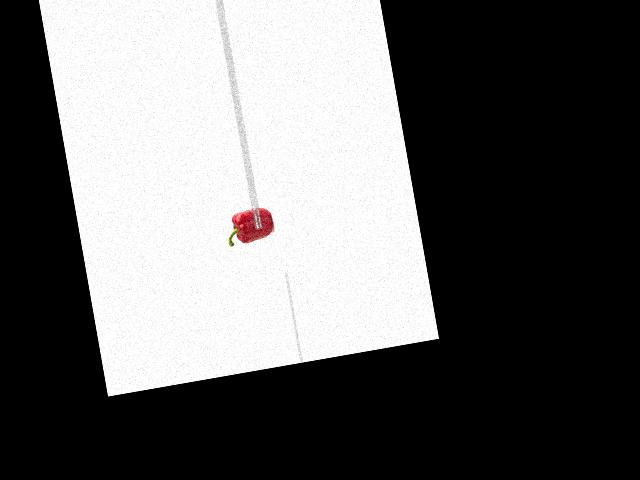bell_pepper: (220, 203, 275, 251)
